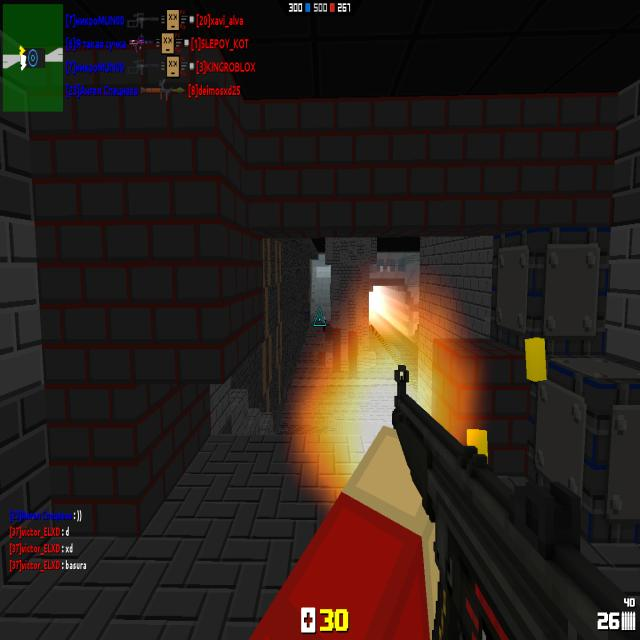enemy: (321, 315, 326, 333)
